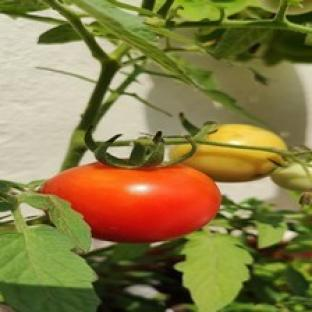Tomato: (41, 163, 221, 242), (184, 145, 282, 182), (271, 163, 311, 192)
